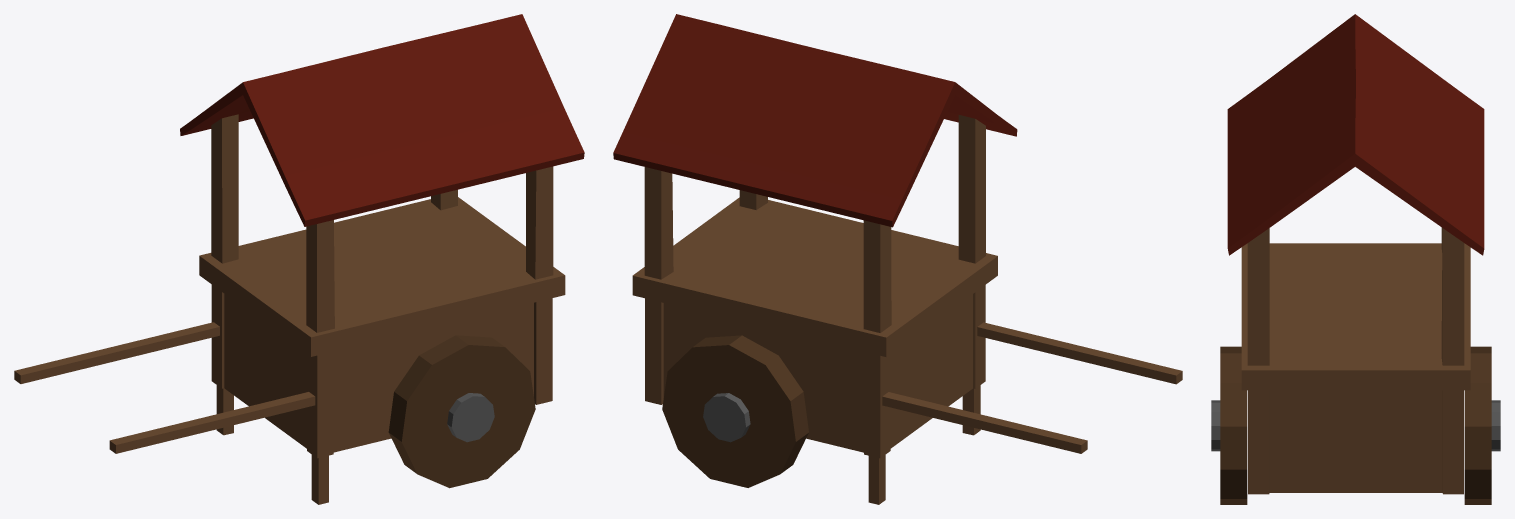
The model's file is cart.fbx.
3 renders of one model, left to right at view 1: azimuth 30°, elevation 25°; view 2: azimuth 150°, elevation 25°; view 3: azimuth 270°, elevation 25°, orthographic. The views are drawn at different scales.
Visible parts, largest first — view 1: MSH_Cart, MSH_Cart_Wheels; view 2: MSH_Cart, MSH_Cart_Wheels; view 3: MSH_Cart, MSH_Cart_Wheels.
Boxes of the visible parts, x1=… form: MSH_Cart: x1=14, y1=14, x2=584, y2=504; MSH_Cart_Wheels: x1=388, y1=335, x2=535, y2=488; MSH_Cart: x1=613, y1=14, x2=1182, y2=504; MSH_Cart_Wheels: x1=662, y1=335, x2=808, y2=487; MSH_Cart: x1=1227, y1=14, x2=1484, y2=494; MSH_Cart_Wheels: x1=1211, y1=346, x2=1500, y2=504.
Size of the model in its own units: 1047 by 859 by 562.
